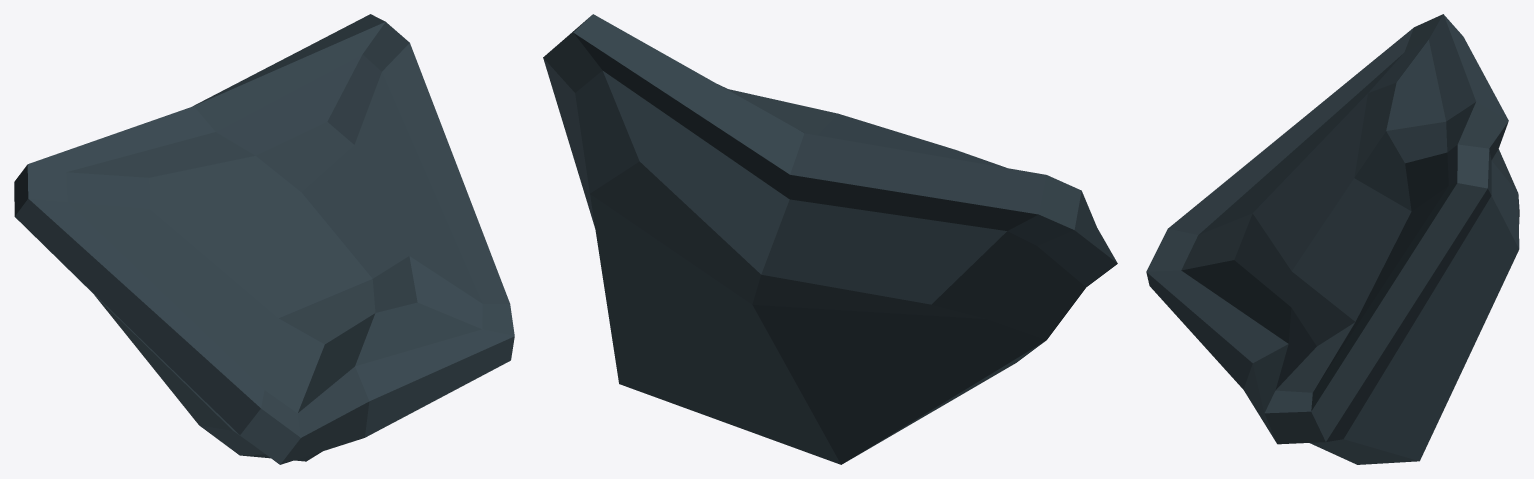
The model's file is SM_Prop_Couch_Pillow_04.obj.
The picture shows the model from 3 angles, left to right: view 1: azimuth 30°, elevation 25°; view 2: azimuth 150°, elevation 25°; view 3: azimuth 270°, elevation 25°; orthographic projection. The views are drawn at different scales.
Parts seen in each view (by area): view 1: SM_Prop_Couch_Pillow_04_M_PolygonOffice_01_A; view 2: SM_Prop_Couch_Pillow_04_M_PolygonOffice_01_A; view 3: SM_Prop_Couch_Pillow_04_M_PolygonOffice_01_A.
Boxes of the visible parts, <box> form: SM_Prop_Couch_Pillow_04_M_PolygonOffice_01_A: <box>14,14,514,464</box>; SM_Prop_Couch_Pillow_04_M_PolygonOffice_01_A: <box>543,14,1117,464</box>; SM_Prop_Couch_Pillow_04_M_PolygonOffice_01_A: <box>1146,14,1519,464</box>.
Size of the model in its own units: 0.4268 by 0.337 by 0.3147.
Materials: 1 (1 with a texture image).
